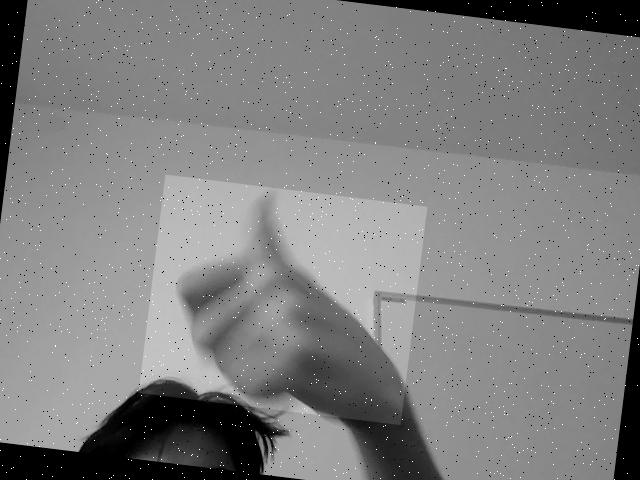good: (138, 175, 426, 425)
